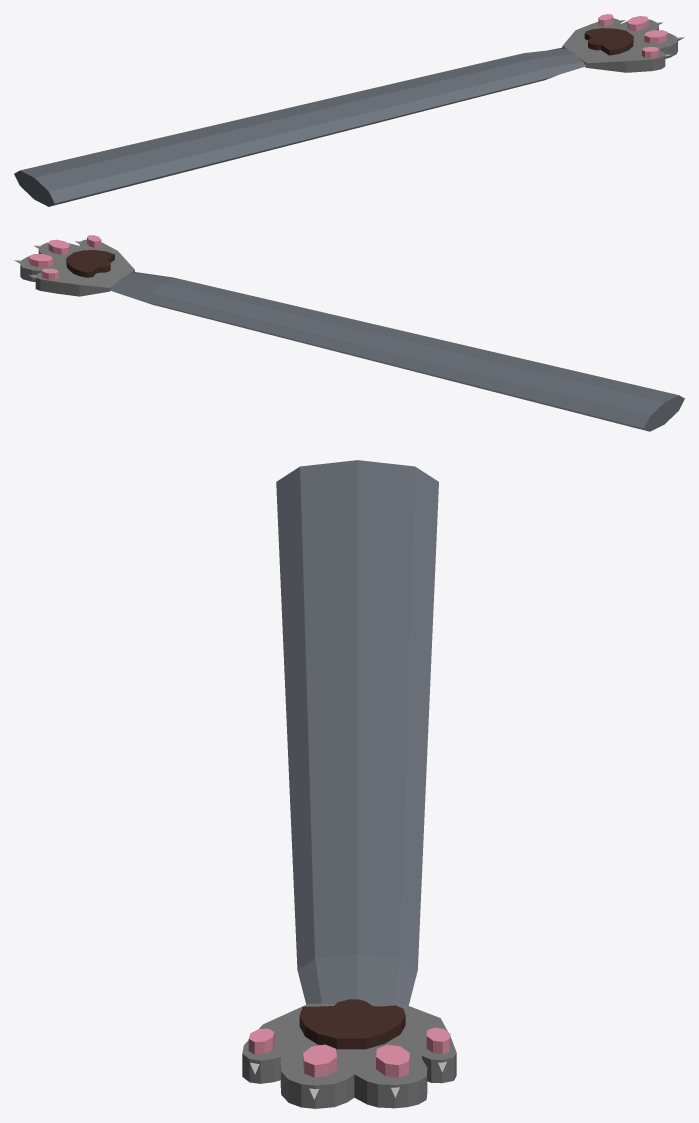
The model's file is lapka9.fbx.
3 renders of one model, top to bottom at view 1: azimuth 30°, elevation 25°; view 2: azimuth 150°, elevation 25°; view 3: azimuth 270°, elevation 25°, orthographic. The views are drawn at different scales.
Parts seen in each view (by area): view 1: Circle.003; view 2: Circle.003; view 3: Circle.003.
Boxes of the visible parts, x1,y1,x2,y2 form: Circle.003: (14, 14, 684, 206); Circle.003: (14, 235, 684, 431); Circle.003: (242, 460, 456, 1108).
Bounding box in the file's own units: 159 × 5.53 × 23.03.
